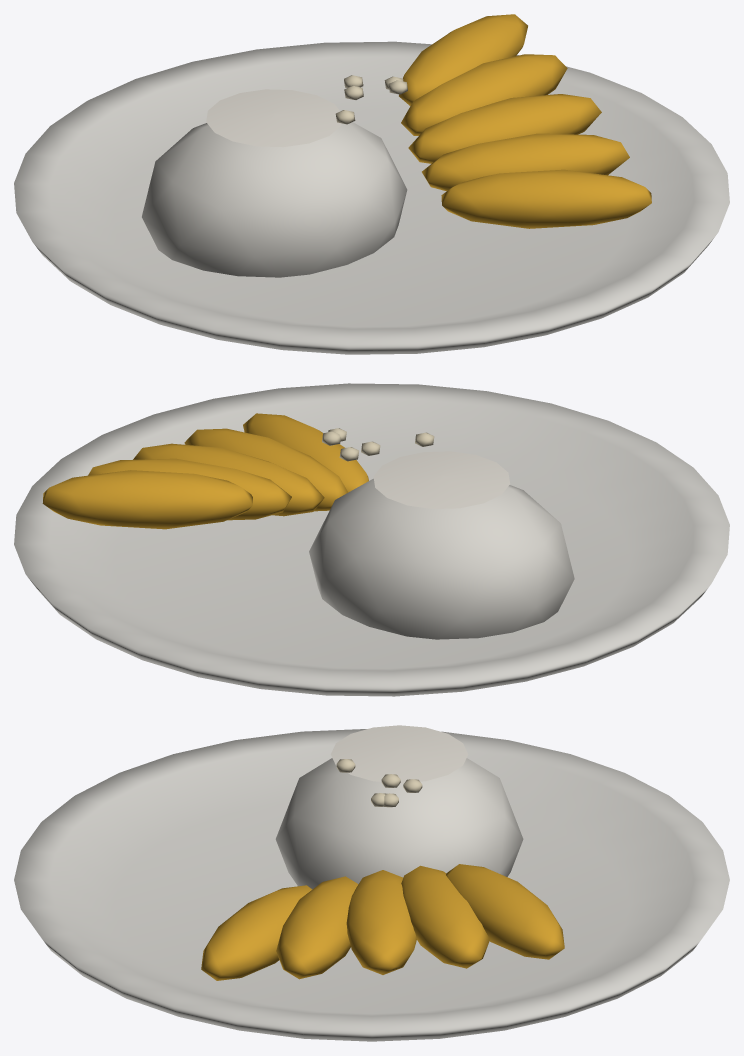
Rendered from item_dish_mango_sticky.glb.
3 renders of one model, top to bottom at view 1: azimuth 30°, elevation 25°; view 2: azimuth 150°, elevation 25°; view 3: azimuth 270°, elevation 25°, orthographic.
Parts seen in each view (by area): view 1: item_dish_mango_sticky_main; view 2: item_dish_mango_sticky_main; view 3: item_dish_mango_sticky_main.
Part boxes in pixels (x1,y1,x2,y2): item_dish_mango_sticky_main: (14, 14, 729, 354); item_dish_mango_sticky_main: (14, 383, 729, 696); item_dish_mango_sticky_main: (14, 725, 729, 1041).
Bounding box in the file's own units: 0.26 × 0.0758 × 0.26.
